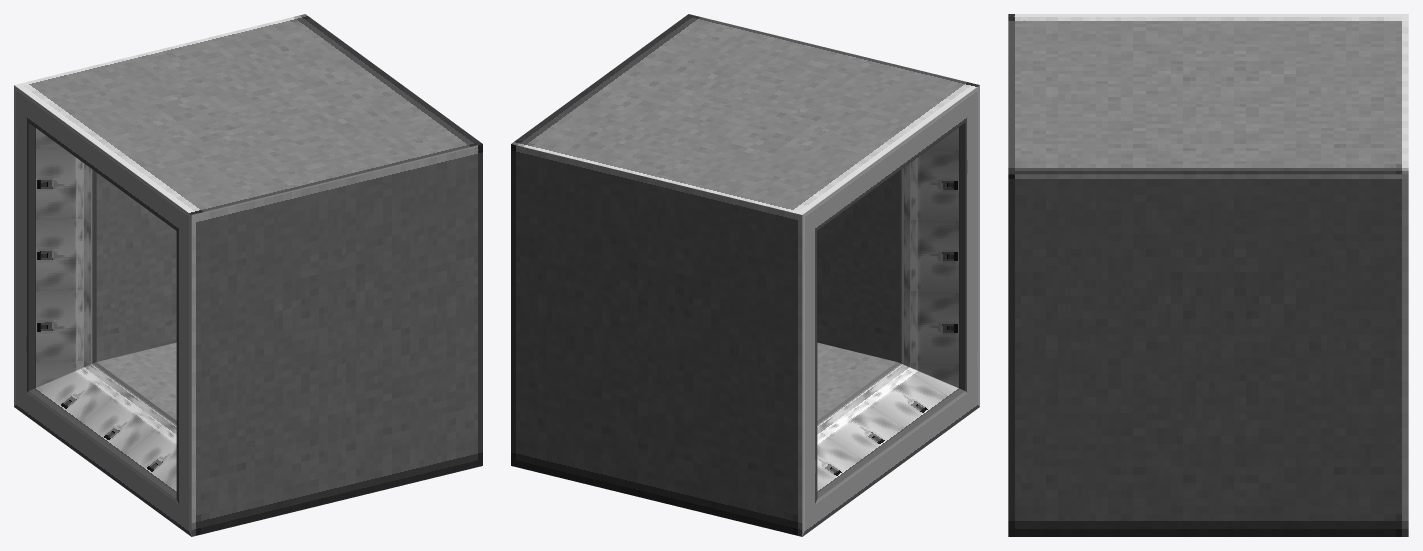
File: primary_133.glb
The picture shows the model from 3 angles, left to right: view 1: azimuth 30°, elevation 25°; view 2: azimuth 150°, elevation 25°; view 3: azimuth 270°, elevation 25°; orthographic projection. The views are drawn at different scales.
Visible parts, largest first — view 1: Object; view 2: Object; view 3: Object.
Boxes of the visible parts, x1,y1,x2,y2 form: Object: [14, 14, 482, 536]; Object: [511, 14, 979, 536]; Object: [1008, 14, 1408, 536].
Bounding box in the file's own units: 0.9318 × 0.9836 × 0.9836.
Materials: 12 (12 with a texture image).
